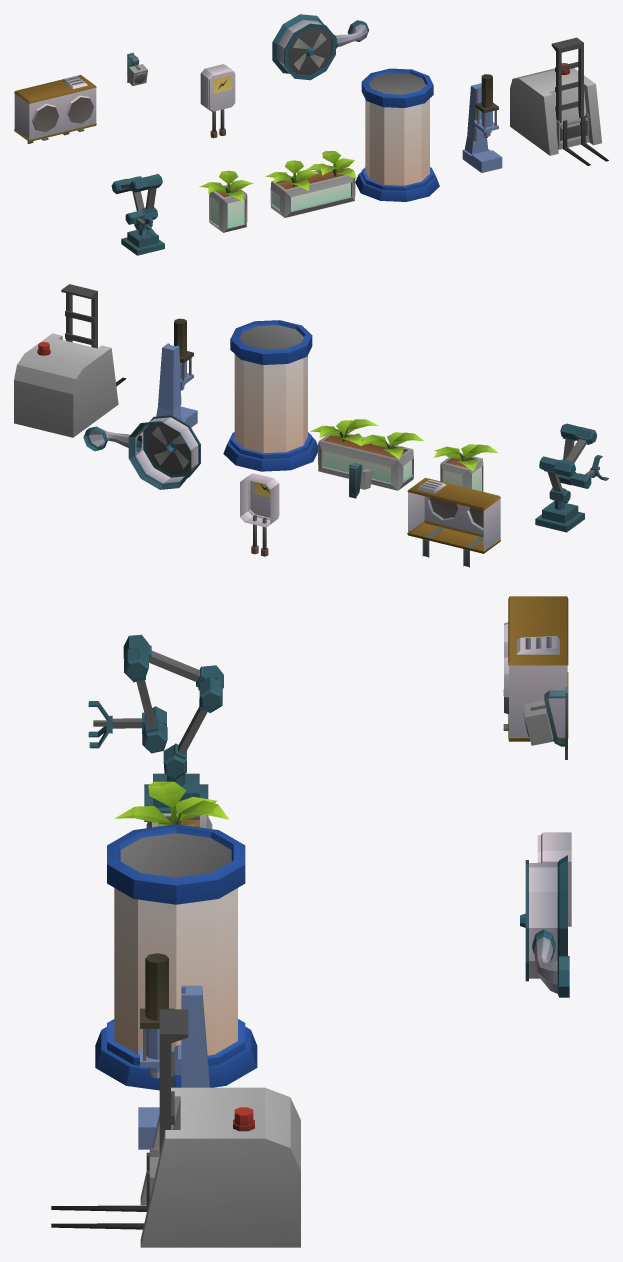
File: Drive_Props_TLE.fbx
3 views of the same model, one above another, from view 1: azimuth 30°, elevation 25°; view 2: azimuth 150°, elevation 25°; view 3: azimuth 270°, elevation 25° (orthographic). The views are drawn at different scales.
Parts seen in each view (by area): view 1: prop_recipiente_cristales, prop_carrito_que_levanta_objetos, prop_aire, porp_maseta_ancha, prop_ventilador, prop_maquinaFabrica, prop_laserV2, porp_maseta_alta, prop_cajaFusible, prop_parlante; view 2: prop_recipiente_cristales, prop_carrito_que_levanta_objetos, prop_aire, prop_ventilador, porp_maseta_ancha, prop_laserV2, prop_maquinaFabrica, prop_cajaFusible, porp_maseta_alta, prop_parlante; view 3: prop_recipiente_cristales, prop_carrito_que_levanta_objetos, prop_aire, prop_laserV2, prop_maquinaFabrica, prop_ventilador, porp_maseta_alta, prop_parlante, prop_cajaFusible.
Part boxes in pixels (x1,y1,x2,y2): prop_recipiente_cristales: [355, 68, 439, 201]; prop_carrito_que_levanta_objetos: [510, 37, 608, 165]; prop_aire: [14, 75, 96, 143]; porp_maseta_ancha: [265, 151, 356, 217]; prop_ventilador: [272, 14, 368, 80]; prop_maquinaFabrica: [462, 74, 502, 172]; prop_laserV2: [111, 174, 164, 255]; porp_maseta_alta: [199, 170, 253, 232]; prop_cajaFusible: [200, 64, 235, 138]; prop_parlante: [127, 52, 147, 86]; prop_recipiente_cristales: [223, 320, 317, 471]; prop_carrito_que_levanta_objetos: [14, 284, 126, 437]; prop_aire: [407, 477, 500, 567]; prop_ventilador: [83, 415, 200, 489]; porp_maseta_ancha: [310, 419, 424, 490]; prop_laserV2: [535, 423, 608, 532]; prop_maquinaFabrica: [156, 318, 197, 427]; prop_cajaFusible: [240, 473, 279, 556]; porp_maseta_alta: [433, 444, 498, 491]; prop_parlante: [349, 462, 372, 498]; prop_recipiente_cristales: [95, 824, 257, 1090]; prop_carrito_que_levanta_objetos: [51, 1009, 300, 1247]; prop_aire: [503, 596, 568, 759]; prop_laserV2: [88, 634, 223, 821]; prop_maquinaFabrica: [138, 953, 210, 1149]; prop_ventilador: [520, 855, 569, 997]; porp_maseta_alta: [114, 781, 229, 828]; prop_parlante: [523, 687, 567, 749]; prop_cajaFusible: [537, 832, 571, 926].
Bounding box in the file's own units: 5.68 × 1.15 × 2.66.
Materials: 1 (1 with a texture image).
